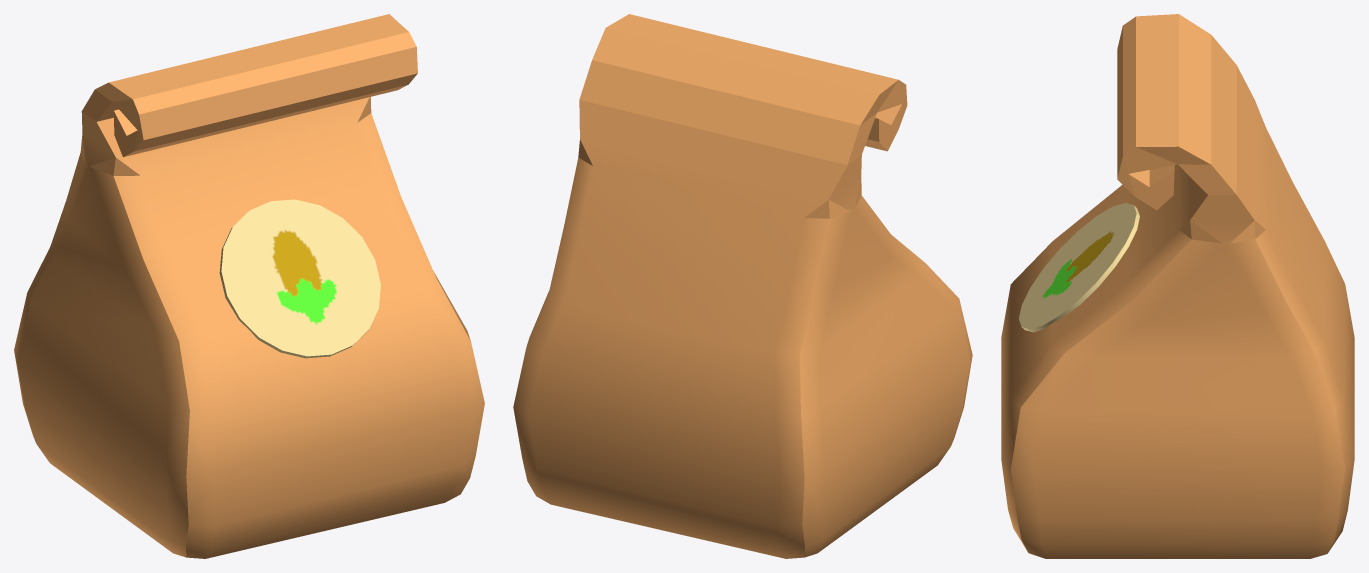
Rendered from cornSeed.fbx.
3 views of the same model, side by side, from view 1: azimuth 30°, elevation 25°; view 2: azimuth 150°, elevation 25°; view 3: azimuth 270°, elevation 25° (orthographic). The views are drawn at different scales.
Visible parts, largest first — view 1: pCube1, pCylinder1; view 2: pCube1; view 3: pCube1, pCylinder1.
Boxes of the visible parts, box(x1,y1,x2,y2) form: pCube1: box(14, 14, 484, 558); pCylinder1: box(219, 199, 380, 358); pCube1: box(513, 14, 972, 558); pCube1: box(1001, 14, 1354, 558); pCylinder1: box(1019, 203, 1139, 332).
Bounding box in the file's own units: 1.68 × 2.2 × 1.68.
Materials: 2 (2 with a texture image).
